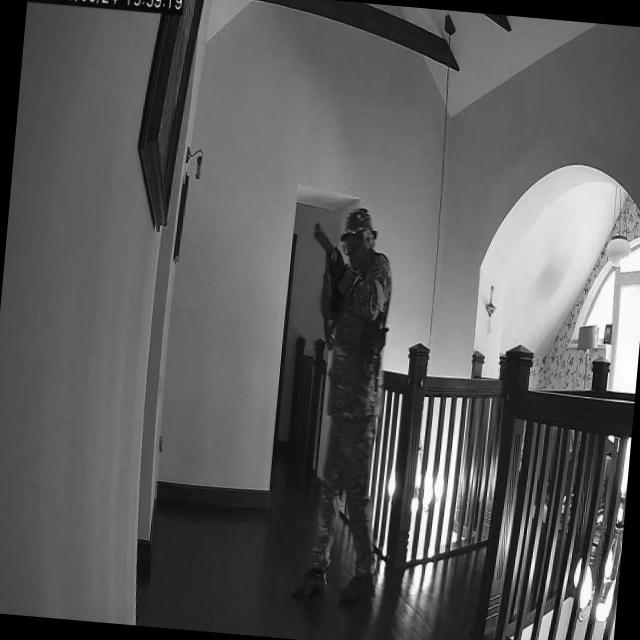gun: (308, 218, 350, 284)
person with a gun: (273, 202, 402, 616)
